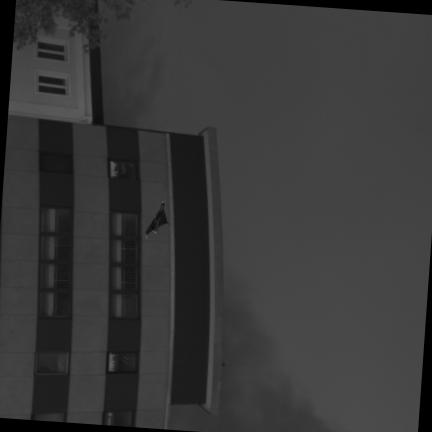Shahed: (145, 201, 167, 237)
